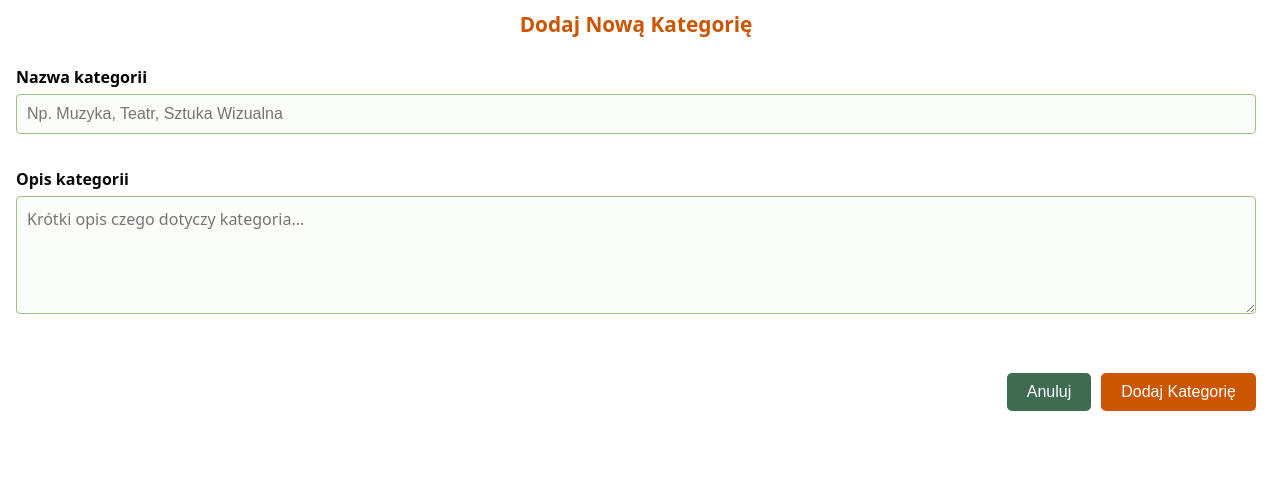
Test: CreateCategory Component › Client-side validation › shows error if name is empty
Click the button "Dodaj Kategorię". click: (1179, 392)
box: [1101,373,1256,411]
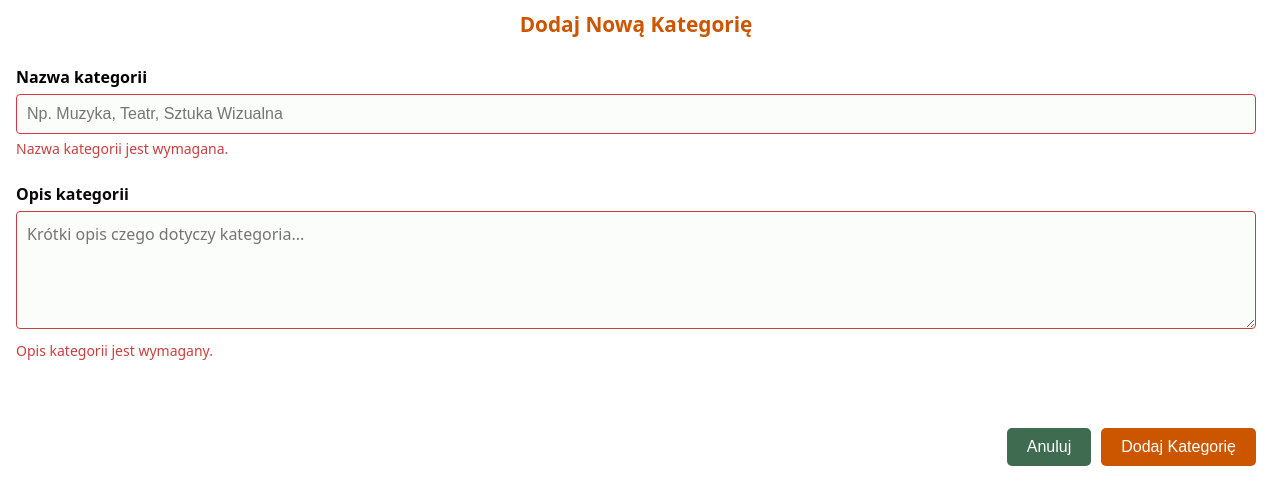
Expected: the text "Nazwa kategorii jest wymagana." is shown, [16,139,228,158]
